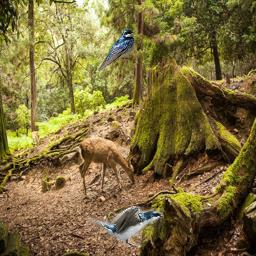Swallow: (85, 205, 164, 247), (98, 28, 135, 72)
